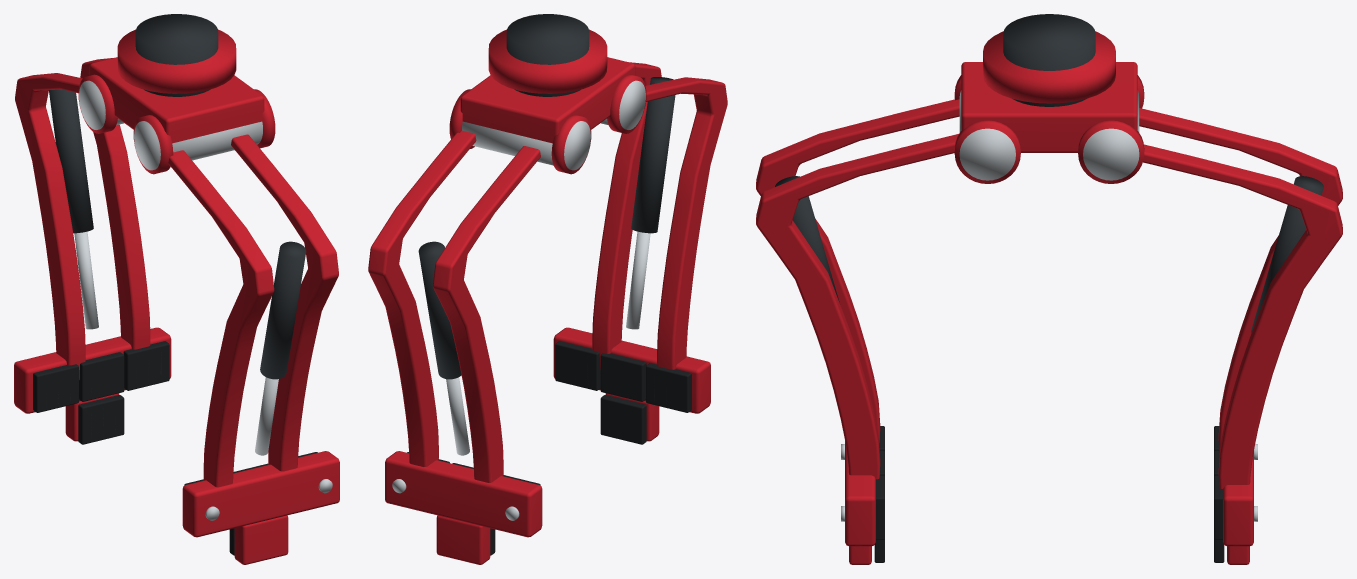
The model's file is gripper-v5.glb.
3 views of the same model, side by side, from view 1: azimuth 30°, elevation 25°; view 2: azimuth 150°, elevation 25°; view 3: azimuth 270°, elevation 25° (orthographic). The views are drawn at different scales.
Parts seen in each view (by area): view 1: Jaw Right curved plate, Jaw Right curved plate.001, Jaw Left curved plate, Red contact backing.001, Jaw Left curved plate.001, Compact red fork, Red wrist mounting collar, Black wrist shaft, Jaw piston housing.001, Jaw piston housing, Jaw hinge.001, Red contact backing (+12 smaller); view 2: Jaw Left curved plate, Jaw Left curved plate.001, Jaw Right curved plate, Red contact backing, Jaw Right curved plate.001, Compact red fork, Red wrist mounting collar, Black wrist shaft, Jaw piston housing.001, Jaw hinge, Red contact backing.001, Jaw piston housing (+11 smaller); view 3: Jaw Right curved plate.001, Jaw Left curved plate.001, Compact red fork, Jaw Right curved plate, Jaw Left curved plate, Red wrist mounting collar, Black wrist shaft, Jaw hinge, Jaw hinge.001, Red contact backing.001, Red contact backing, Jaw piston housing (+3 smaller).
Part boxes in pixels (x1,y1,x2,y2): Jaw Right curved plate: (168,150,274,487); Jaw Right curved plate.001: (231,134,338,471); Jaw Left curved plate: (15,73,85,380); Red contact backing.001: (182,451,339,537); Jaw Left curved plate.001: (80,58,150,349); Compact red fork: (89,57,264,143); Red wrist mounting collar: (117,29,236,93); Black wrist shaft: (135,14,218,96); Jaw piston housing.001: (260,241,306,379); Jaw piston housing: (49,89,93,233); Jaw hinge.001: (134,121,262,170); Red contact backing: (14,327,171,413); Jaw Left curved plate: (433,146,540,482); Jaw Left curved plate.001: (368,130,476,466); Jaw Right curved plate: (645,77,727,369); Red contact backing: (385,451,542,537); Jaw Right curved plate.001: (592,62,661,369); Compact red fork: (460,57,635,143); Red wrist mounting collar: (488,29,607,93); Black wrist shaft: (506,14,589,96); Jaw piston housing.001: (631,77,675,233); Jaw hinge: (462,121,590,170); Red contact backing.001: (553,327,710,413); Jaw piston housing: (418,241,461,379); Jaw Right curved plate.001: (756,134,958,479); Jaw Left curved plate.001: (1143,144,1342,488); Compact red fork: (961,62,1137,152); Jaw Right curved plate: (756,99,959,442); Jaw Left curved plate: (1139,108,1342,452); Red wrist mounting collar: (983,31,1115,103); Black wrist shaft: (1003,14,1095,106); Jaw hinge: (1083,90,1139,180); Jaw hinge.001: (959,90,1015,180); Red contact backing.001: (845,441,875,546); Red contact backing: (1223,451,1253,546); Jaw piston housing: (1251,176,1323,332).
Size of the model in its own units: 0.43 by 1.3 by 1.33.
